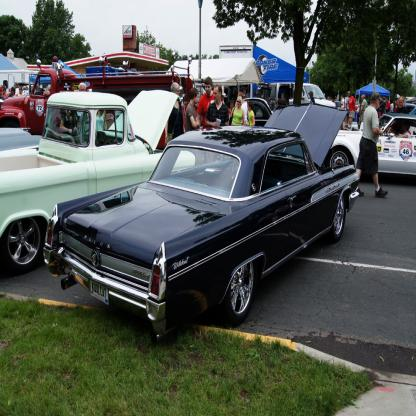Car: (0, 82, 416, 343)
